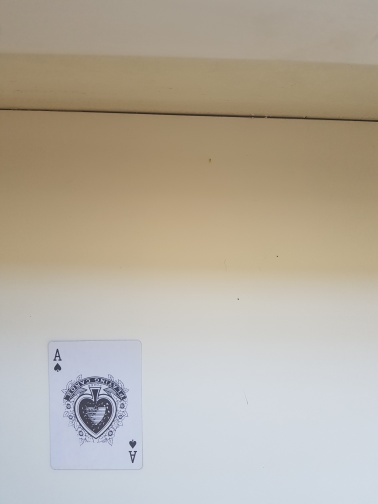ace: (47, 338, 144, 471)
